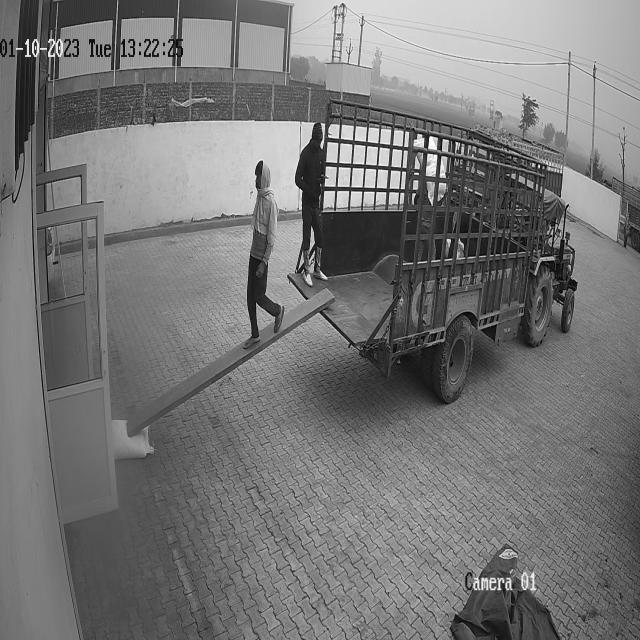sack: (113, 419, 153, 459)
